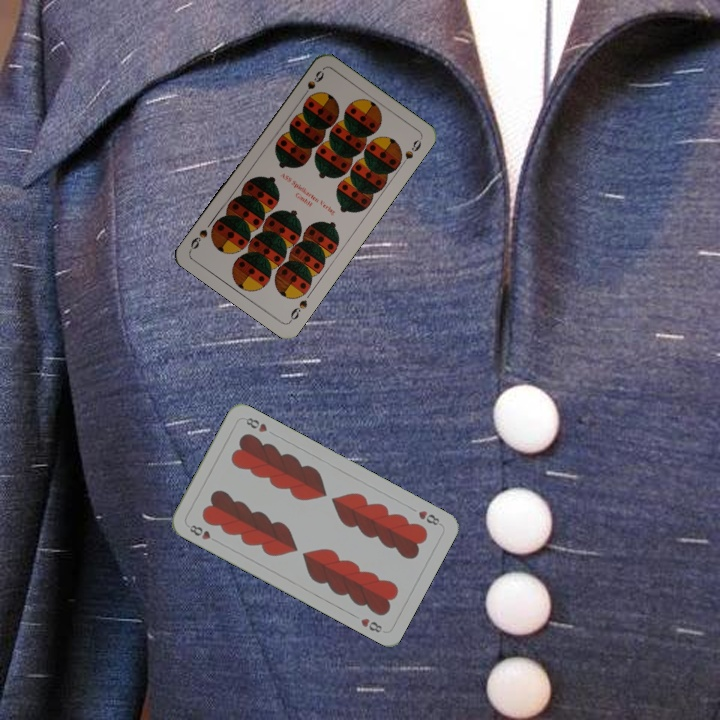H8: (185, 521, 221, 545), (414, 506, 444, 528)
S9: (297, 66, 327, 102), (285, 296, 310, 325)
